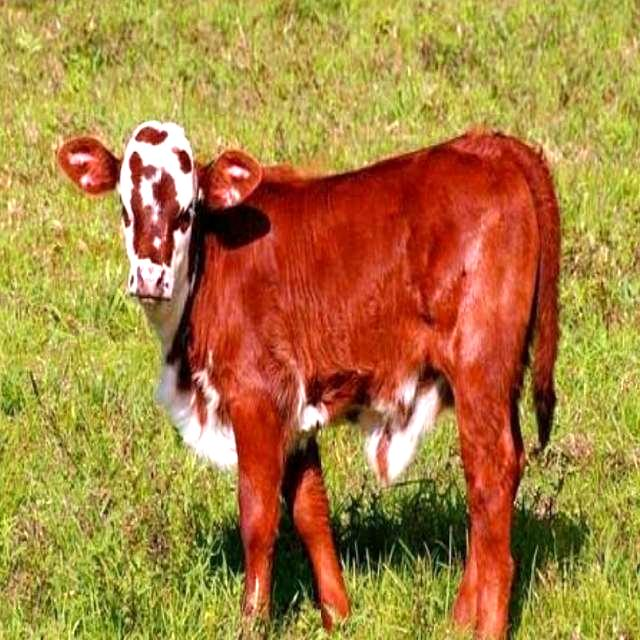COW: (58, 122, 560, 640)
